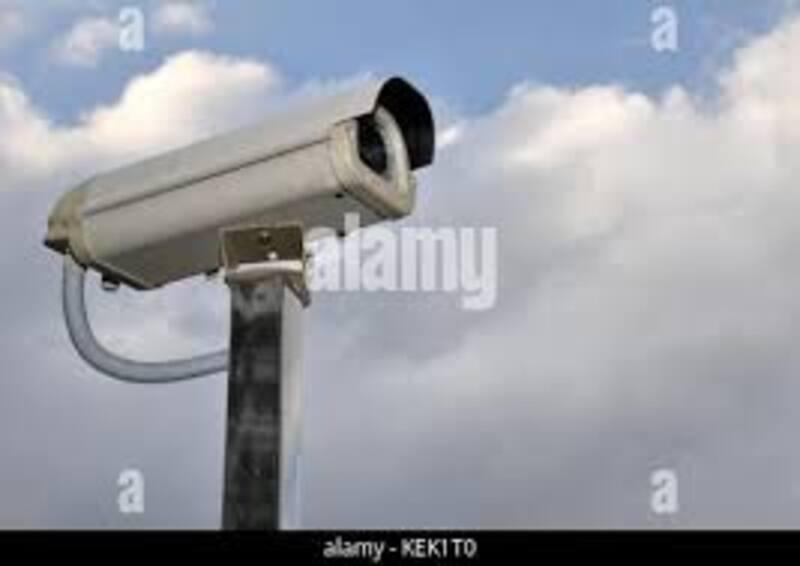box: (51, 177, 442, 321)
